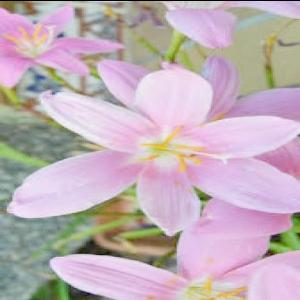Saffron: (11, 70, 300, 229), (51, 203, 300, 300), (1, 0, 125, 93)
